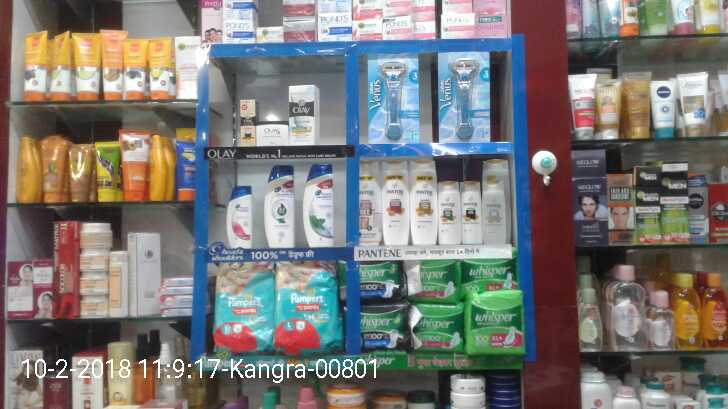venus: (439, 52, 489, 143), (368, 55, 419, 142)
